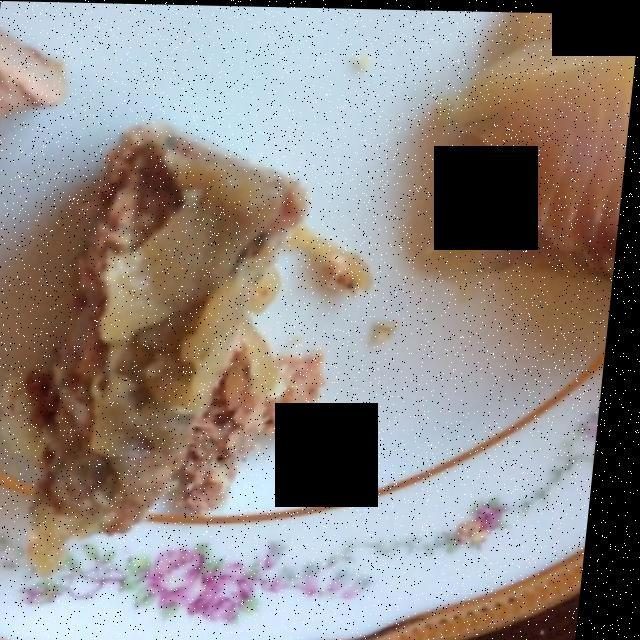meat-terrine-pate: (15, 126, 330, 565)
